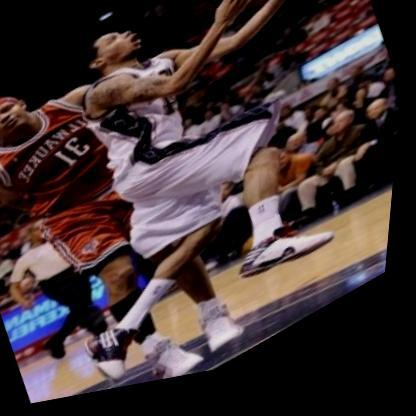basketball: (239, 0, 334, 16)
